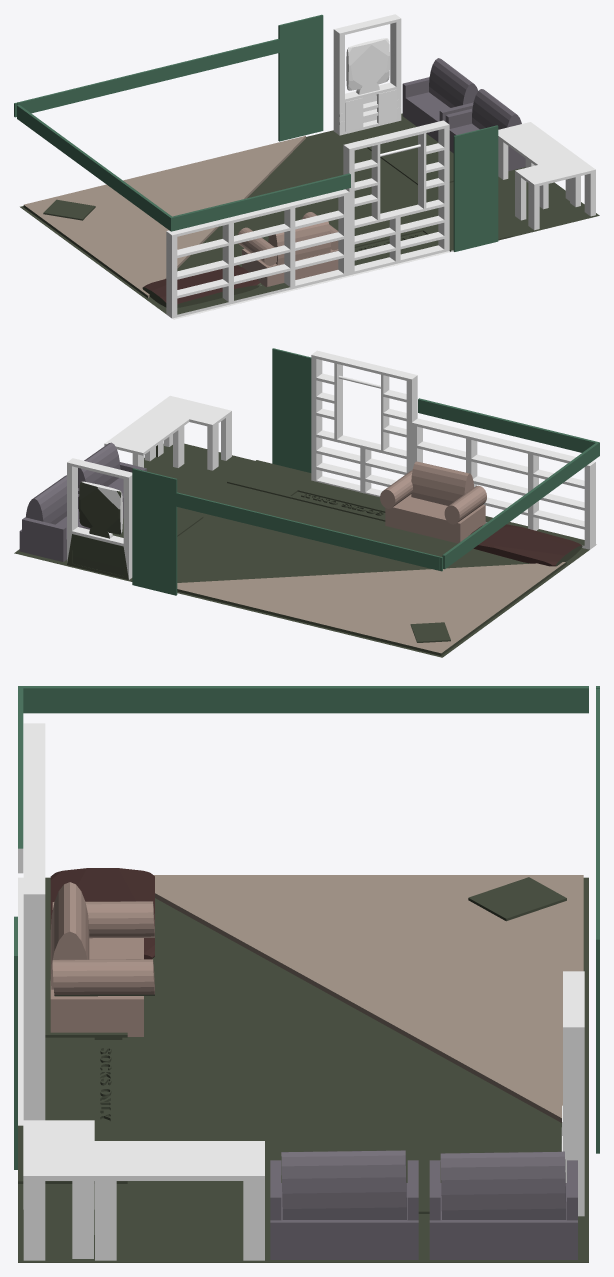
Rendered from T13Tex.glb.
3 views of the same model, one above another, from view 1: azimuth 30°, elevation 25°; view 2: azimuth 150°, elevation 25°; view 3: azimuth 270°, elevation 25° (orthographic). The views are drawn at different scales.
Visible parts, largest first — view 1: T13-room-layout; view 2: T13-room-layout; view 3: T13-room-layout.
Part boxes in pixels (x1,y1,x2,y2): T13-room-layout: (14, 14, 599, 319); T13-room-layout: (14, 348, 599, 657); T13-room-layout: (14, 686, 599, 1262).
Bounding box in the file's own units: 167 × 47.17 × 107.
